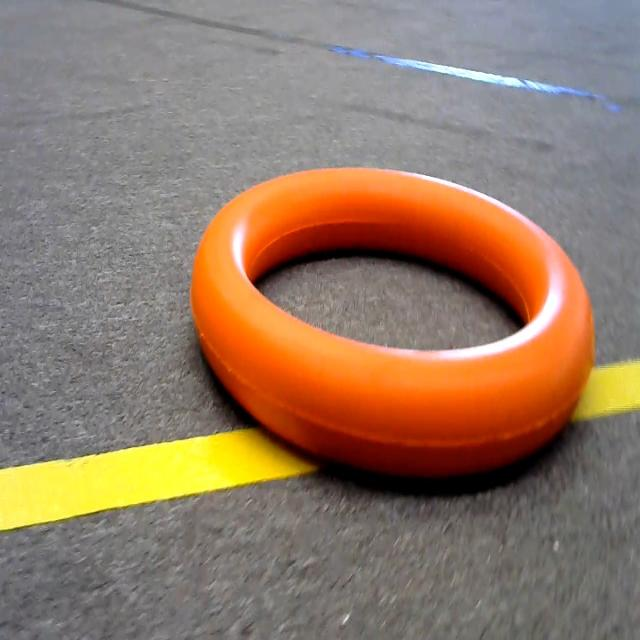note: (173, 135, 609, 513)
